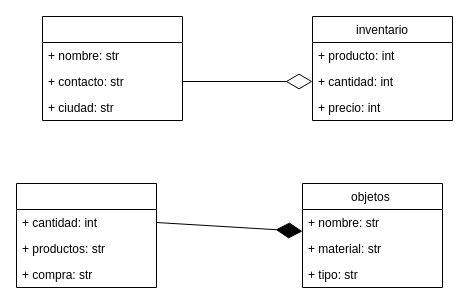
The diagram is 469 pixels wide and 304 high, and some of its shapes have lost their labels. Each missing label, with the box of its shape:
carrito: (16, 182, 156, 288)
tienda: (42, 16, 182, 120)
